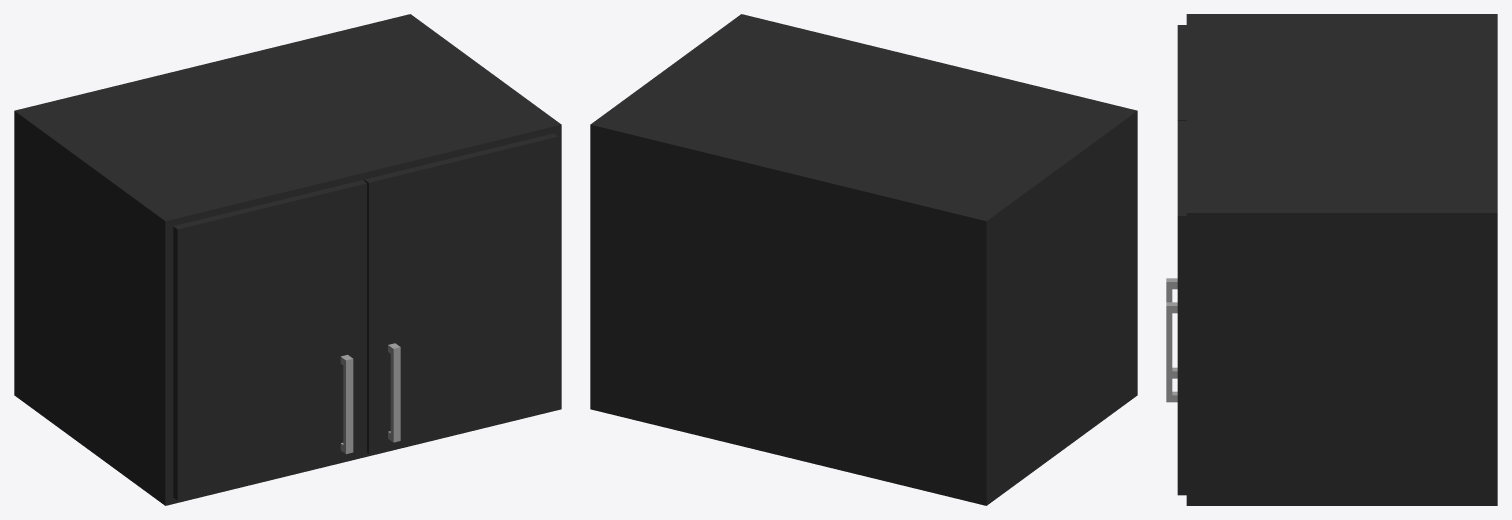
The model's file is KitchenCounter_Top_01.fbx.
The picture shows the model from 3 angles, left to right: view 1: azimuth 30°, elevation 25°; view 2: azimuth 150°, elevation 25°; view 3: azimuth 270°, elevation 25°; orthographic projection. The views are drawn at different scales.
Parts seen in each view (by area): view 1: KitchenCounter_Top_01, KitchenCounter_Top_01_Door_L, KitchenCounter_Top_01_Door_R; view 2: KitchenCounter_Top_01; view 3: KitchenCounter_Top_01, KitchenCounter_Top_01_Door_R, KitchenCounter_Top_01_Door_L.
Boxes of the visible parts, x1,y1,x2,y2 form: KitchenCounter_Top_01: [14, 14, 561, 505]; KitchenCounter_Top_01_Door_L: [173, 180, 366, 500]; KitchenCounter_Top_01_Door_R: [364, 133, 558, 453]; KitchenCounter_Top_01: [590, 14, 1137, 505]; KitchenCounter_Top_01: [1186, 14, 1497, 505]; KitchenCounter_Top_01_Door_R: [1166, 121, 1186, 495]; KitchenCounter_Top_01_Door_L: [1166, 25, 1186, 378].
Bounding box in the file's own units: 1 × 0.6866 × 0.7037.
